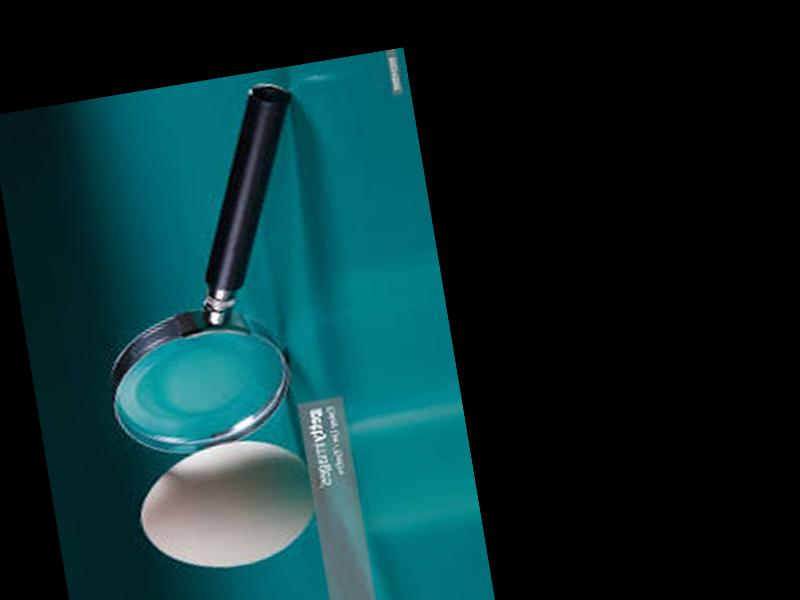Eggs: (129, 429, 324, 581)
